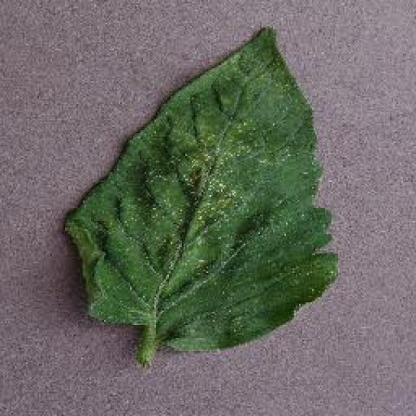Tomato_Spider_Mites: (68, 29, 336, 352)
